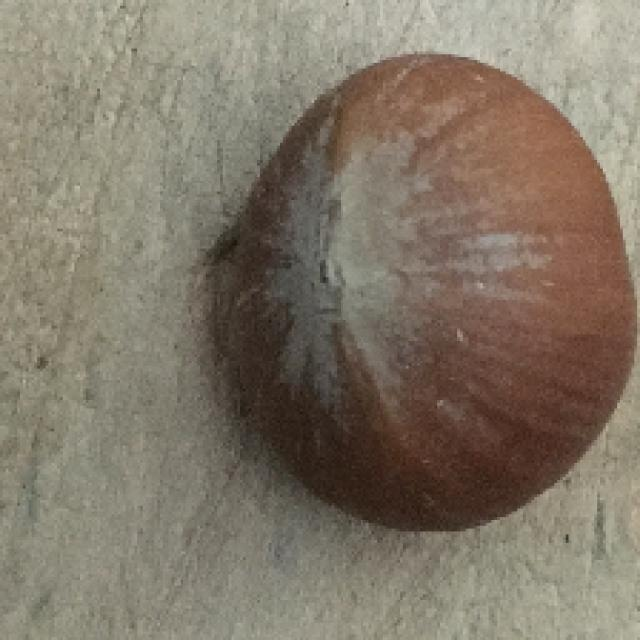QualityHazelnut: (224, 48, 636, 534)
